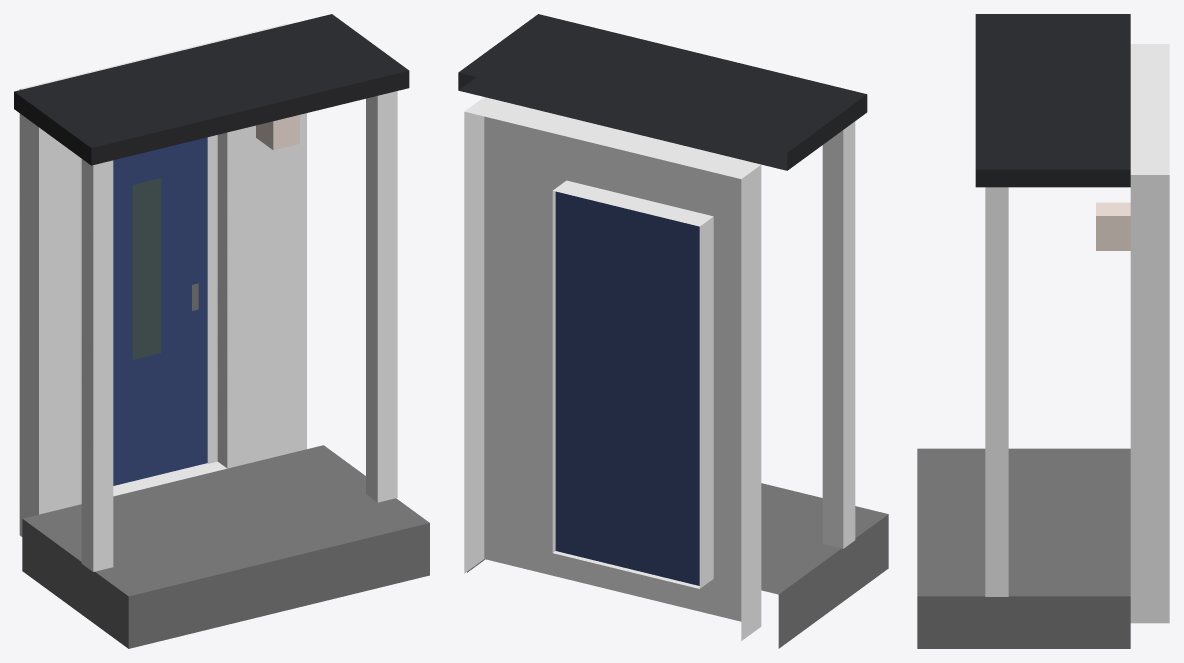
Rendered from entrance.fbx.
3 views of the same model, side by side, from view 1: azimuth 30°, elevation 25°; view 2: azimuth 150°, elevation 25°; view 3: azimuth 270°, elevation 25° (orthographic). The views are drawn at different scales.
Visible parts, largest first — view 1: a2015/200/entrance; view 2: a2015/200/entrance; view 3: a2015/200/entrance.
Boxes of the visible parts, x1,y1,x2,y2 form: a2015/200/entrance: (14,14,429,648); a2015/200/entrance: (458,14,888,648); a2015/200/entrance: (917,14,1169,648).
Bounding box in the file's own units: 1.9 × 2.75 × 1.3.
